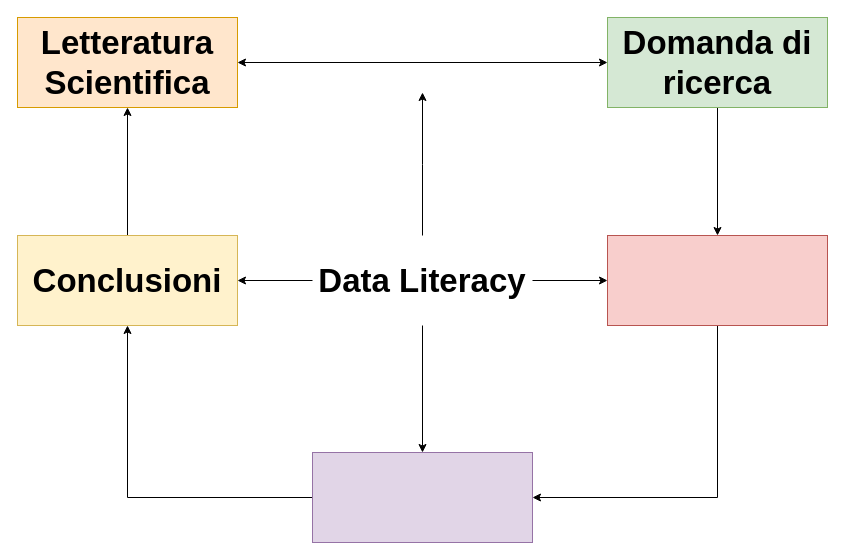
Some shapes in this 845 by 560 pixel diagram are drawn without their labels. Here are the shapes that lost their labels. From the top down, the centre of each, then its label:
At (717,280): "Studio Empirico".
At (422,497): "Analisi dei dati".
